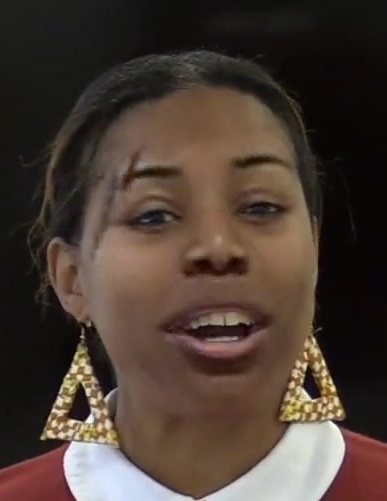eb_f: (82, 143, 310, 237)
